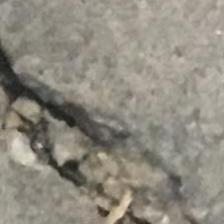Crack: (0, 53, 191, 223)
